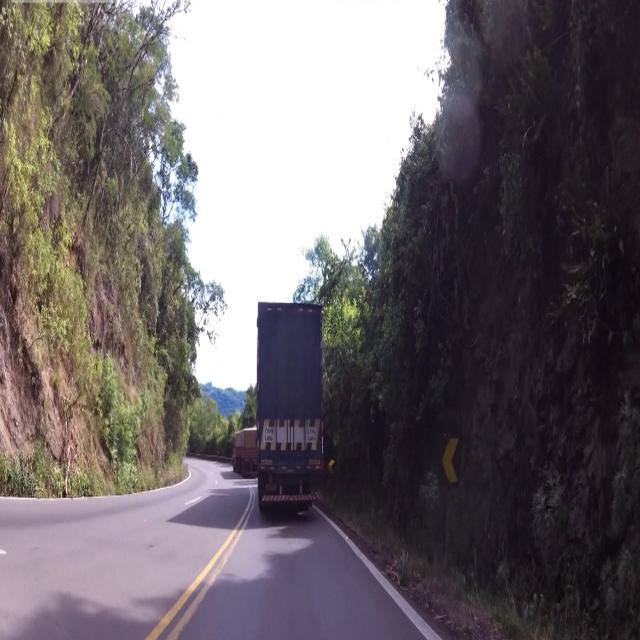Del: (439, 434, 464, 496)
